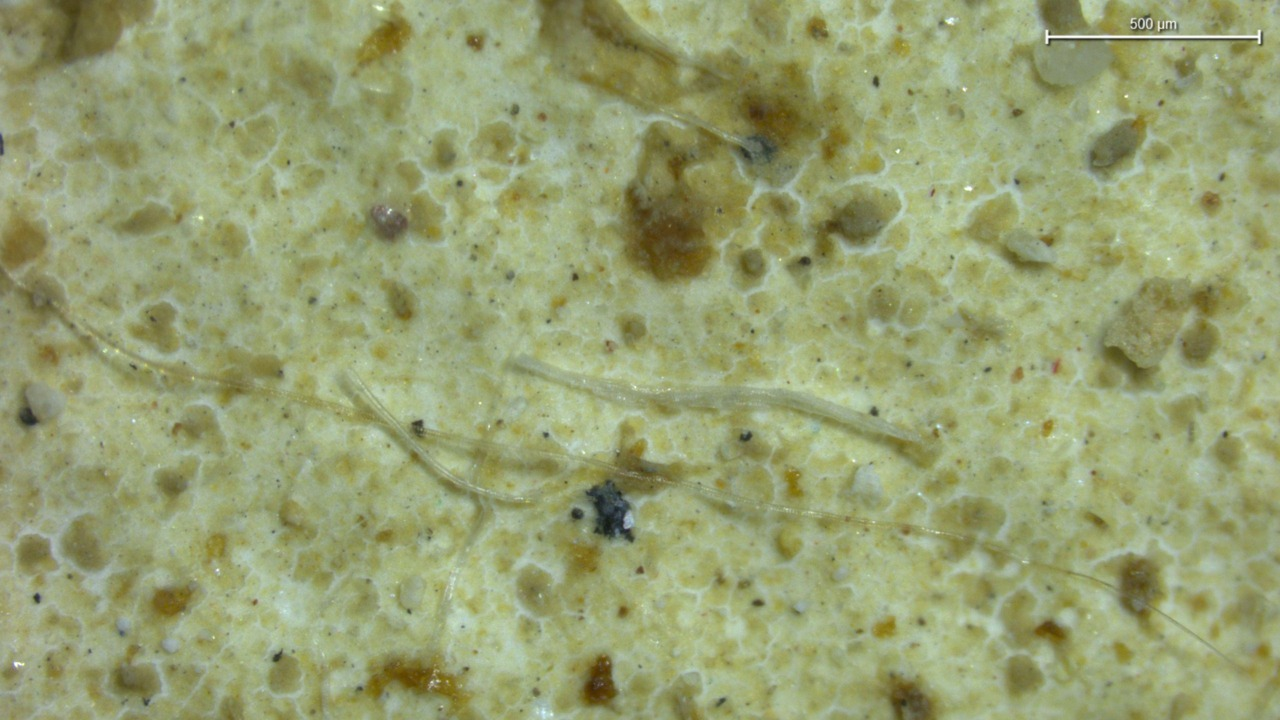microplastic_fragment: (1103, 278, 1194, 368), (1034, 39, 1112, 86), (850, 463, 883, 505)
